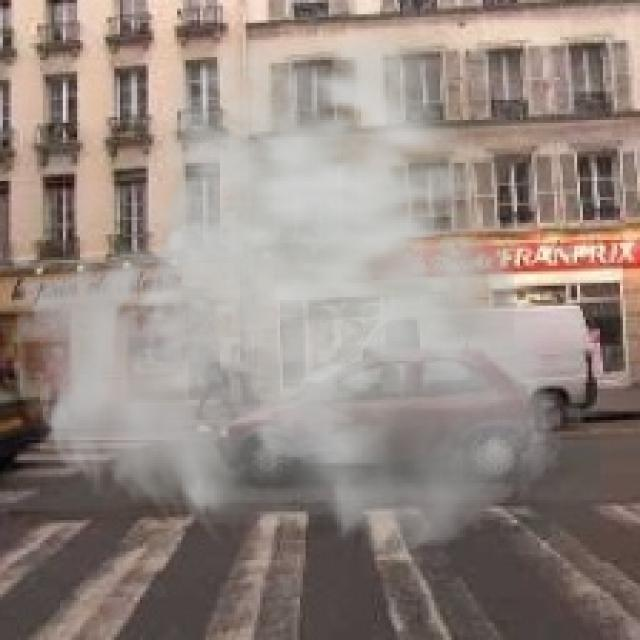Smoke: (6, 0, 568, 557)
